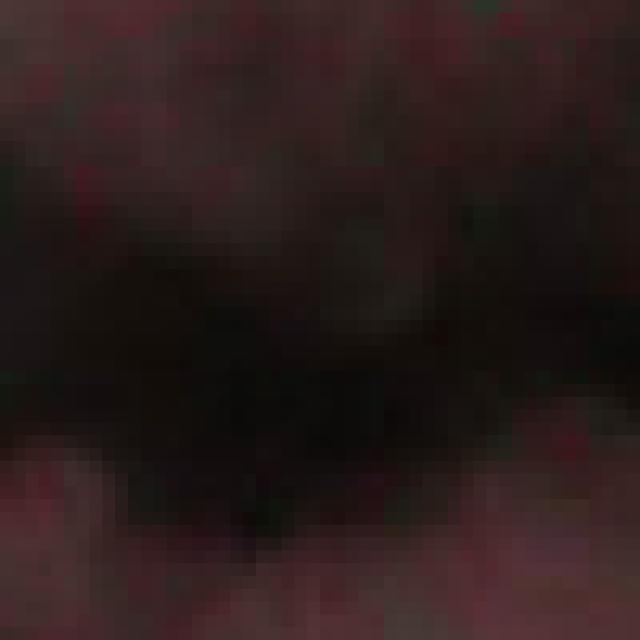fire: (12, 21, 608, 640)
